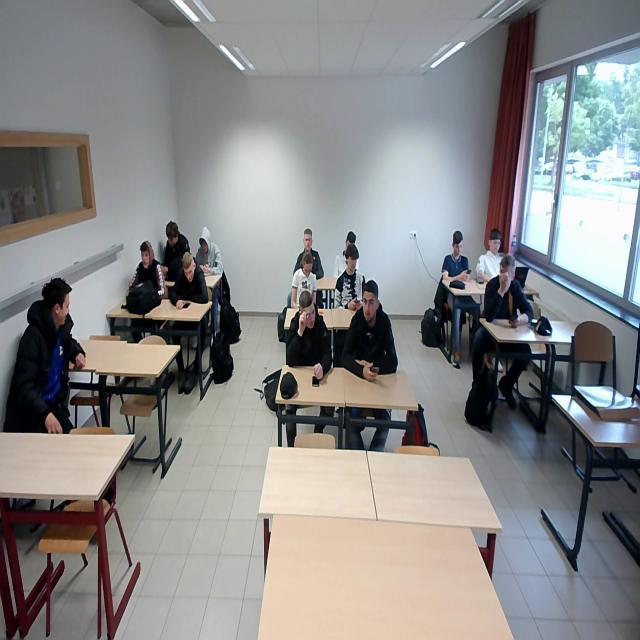Looking away: (298, 293, 316, 329)
Looking forward: (139, 245, 151, 269), (304, 228, 314, 250)
Phone use: (346, 278, 398, 378), (481, 252, 534, 326), (332, 246, 368, 310), (171, 254, 208, 310), (441, 228, 474, 282), (159, 222, 190, 276), (193, 225, 224, 278), (290, 253, 317, 310)
Turning around: (18, 279, 86, 378)
